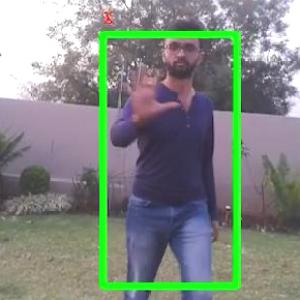follow_hand: (122, 55, 183, 122)
